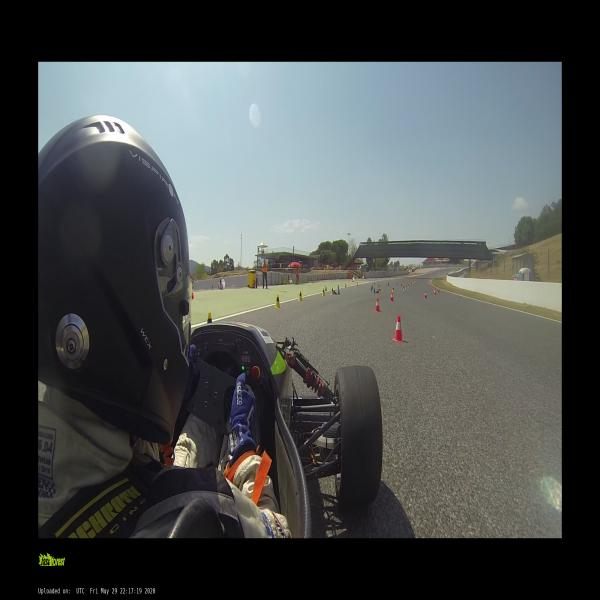blue_cone: (338, 288, 340, 294), (335, 290, 338, 294)
orange_cone: (393, 316, 404, 342), (375, 298, 380, 312), (390, 292, 394, 301), (424, 290, 426, 298), (434, 289, 436, 295), (438, 288, 439, 293)
yellow_cone: (276, 294, 280, 308), (298, 290, 303, 301), (207, 313, 212, 323), (322, 288, 325, 297), (331, 287, 333, 295), (379, 287, 381, 294), (402, 284, 404, 290), (393, 286, 394, 292)
